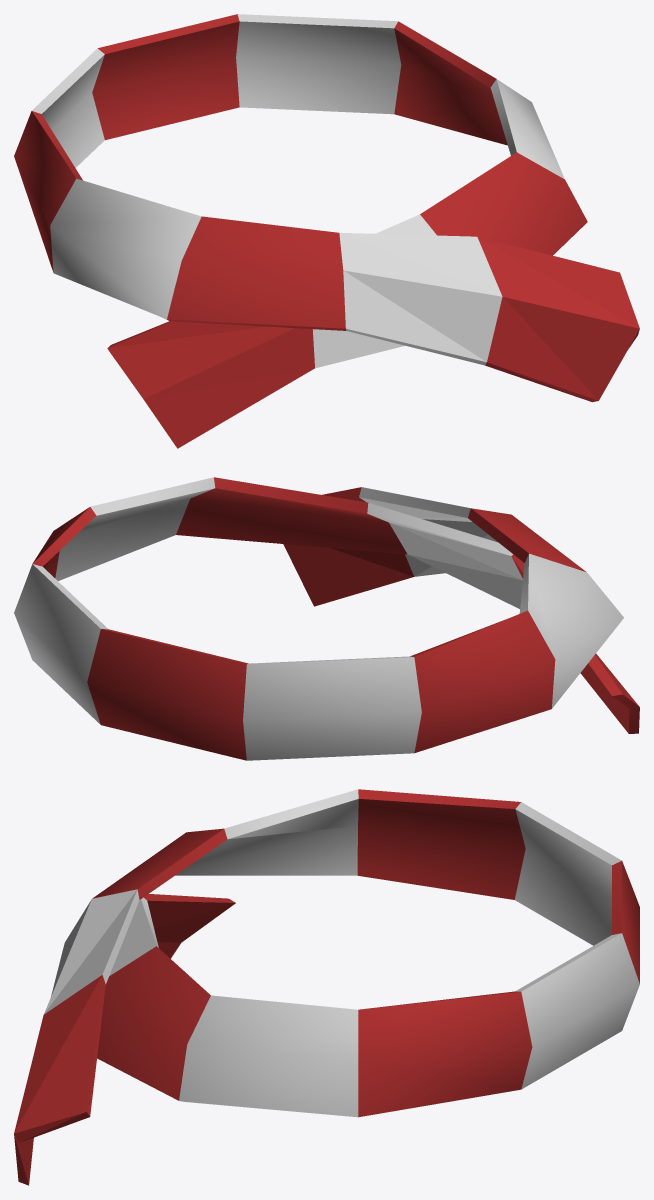
Rendered from M_Scarf_03.FBX.
3 views of the same model, one above another, from view 1: azimuth 30°, elevation 25°; view 2: azimuth 150°, elevation 25°; view 3: azimuth 270°, elevation 25° (orthographic). The views are drawn at different scales.
Visible parts, largest first — view 1: Cylinder022; view 2: Cylinder022; view 3: Cylinder022.
Part boxes in pixels (box(x1,y1,x2,y2)): Cylinder022: box(14, 14, 639, 448); Cylinder022: box(14, 477, 639, 760); Cylinder022: box(14, 789, 639, 1185).
Size of the model in its own units: 86.9 by 33.86 by 89.86.
Materials: 1 (1 with a texture image).
